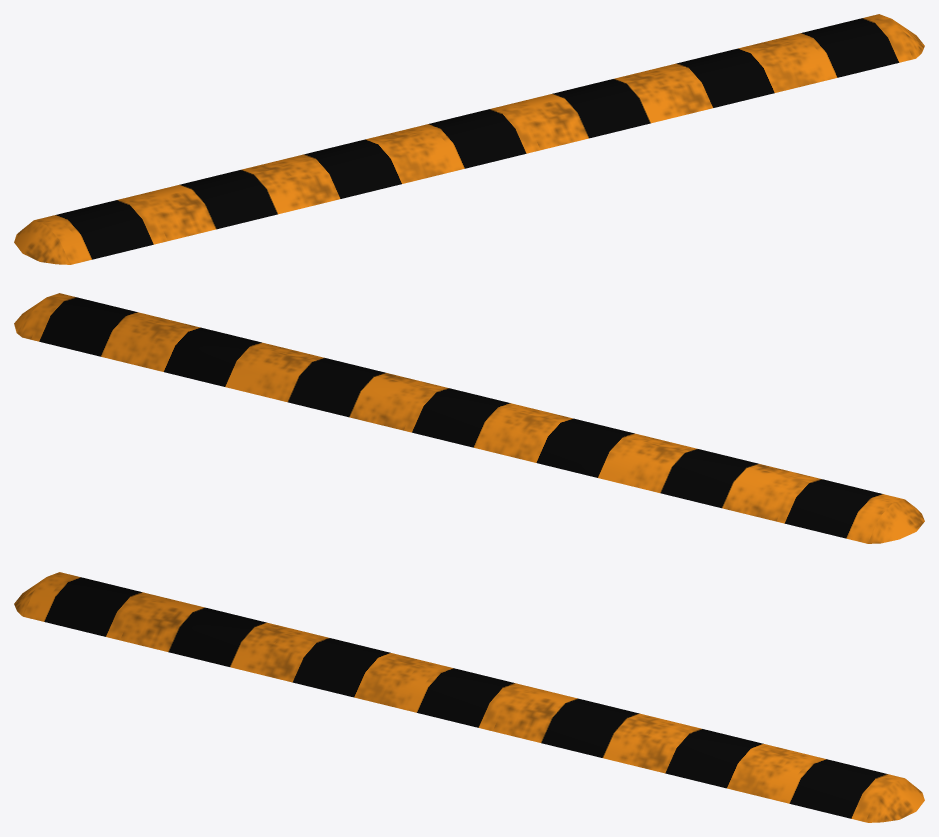
File: SpeedBump.FBX
3 renders of one model, top to bottom at view 1: azimuth 30°, elevation 25°; view 2: azimuth 150°, elevation 25°; view 3: azimuth 330°, elevation 25°, orthographic.
Parts seen in each view (by area): view 1: SpeedBump; view 2: SpeedBump; view 3: SpeedBump.
Part boxes in pixels (bbox=[...]): SpeedBump: bbox=[14, 14, 924, 264]; SpeedBump: bbox=[14, 293, 924, 543]; SpeedBump: bbox=[14, 572, 924, 822].
Size of the model in its own units: 3.17 by 0.0763 by 0.2985.
